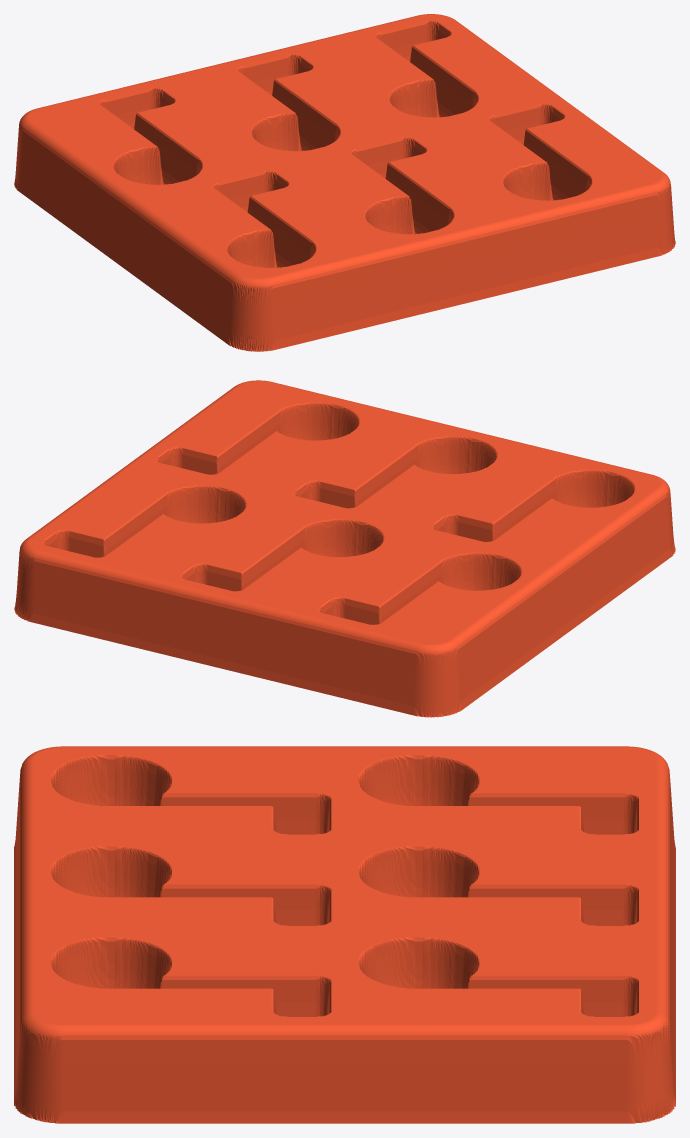
File: mold.glb
3 renders of one model, top to bottom at view 1: azimuth 30°, elevation 25°; view 2: azimuth 150°, elevation 25°; view 3: azimuth 270°, elevation 25°, orthographic. The views are drawn at different scales.
Visible parts, largest first — view 1: geometry_0; view 2: geometry_0; view 3: geometry_0.
Boxes of the visible parts, x1,y1,x2,y2 form: geometry_0: [14, 14, 675, 351]; geometry_0: [14, 380, 675, 717]; geometry_0: [14, 746, 675, 1123].
Bounding box in the file's own units: 0.1282 × 0.0185 × 0.1222.
